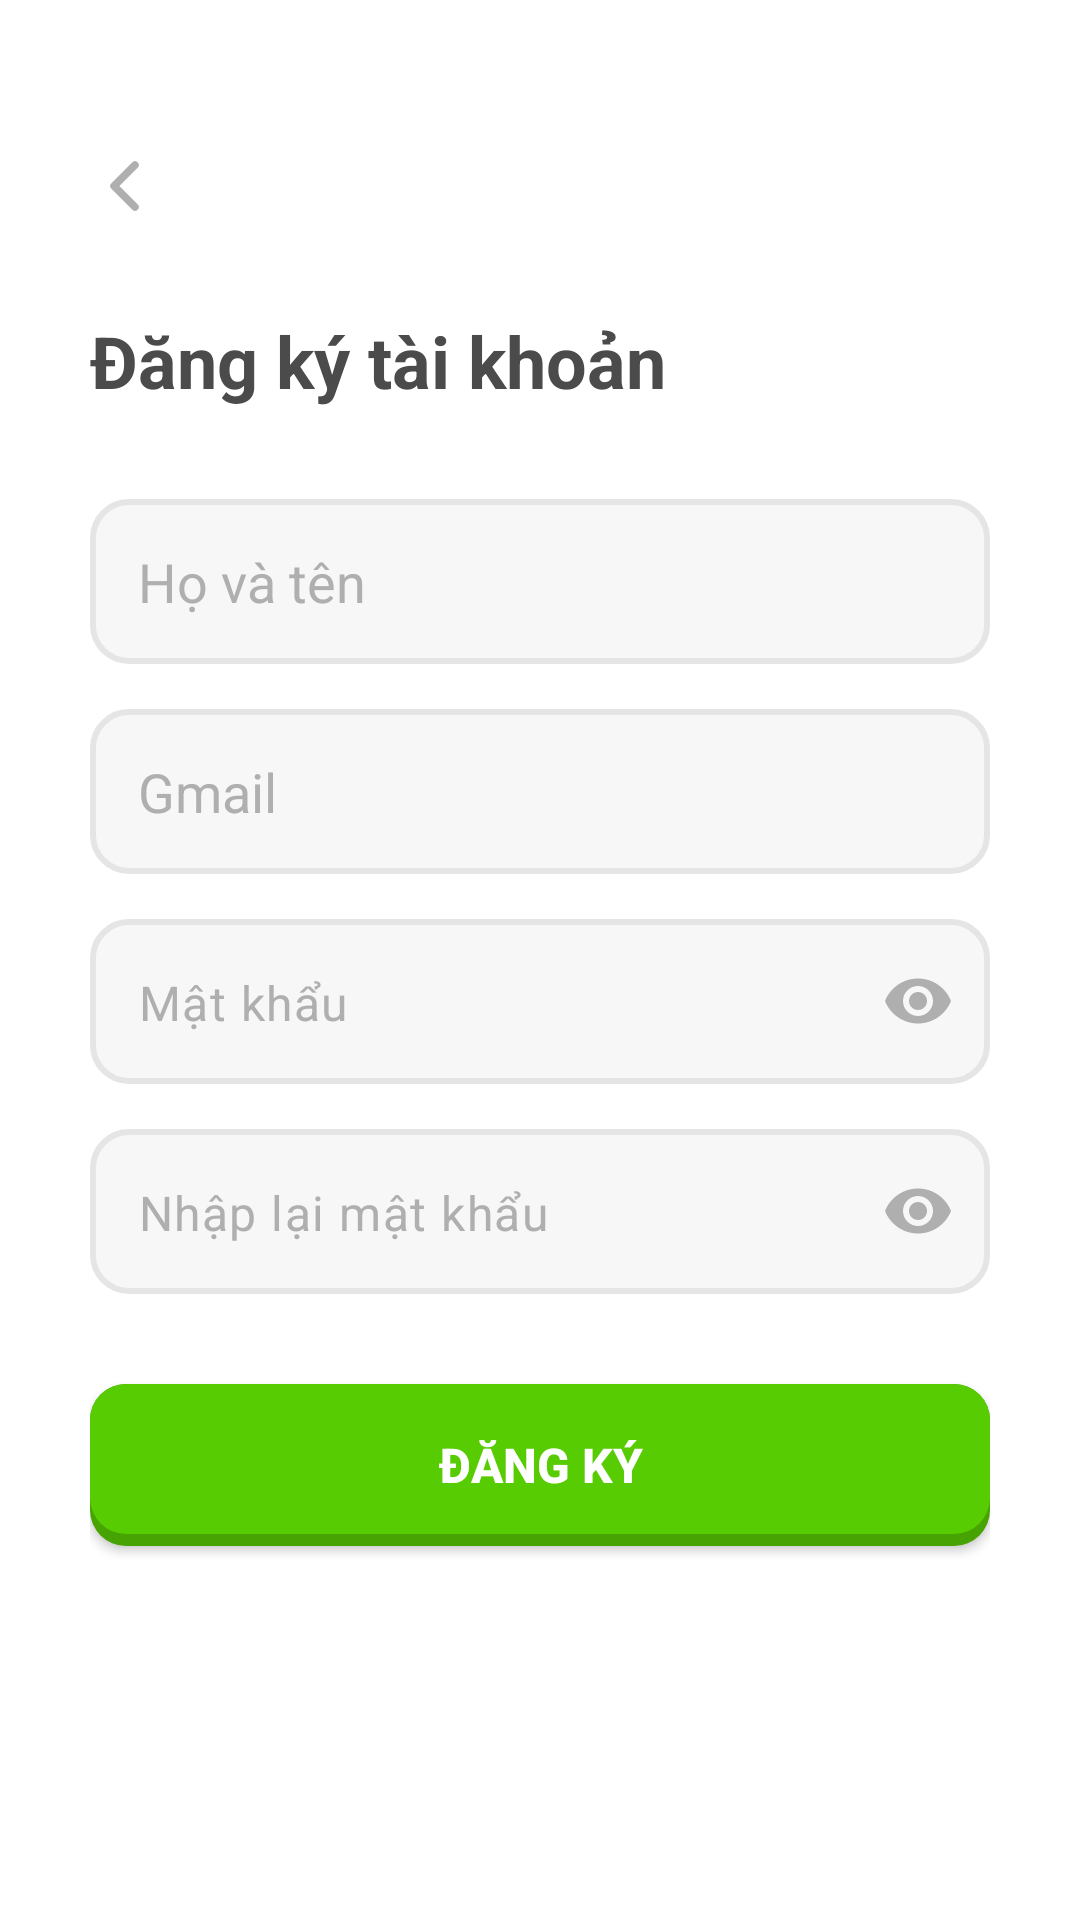

Icon click points for this 1080w x 1920h phone screenshot, format (x=x, y=y):
Back: (x=124, y=186)
